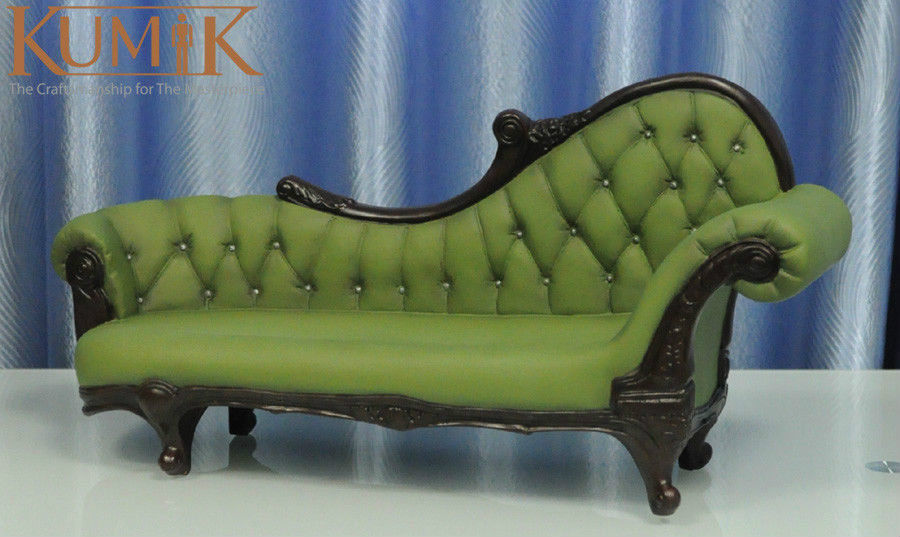chairs: (32, 73, 855, 521)
